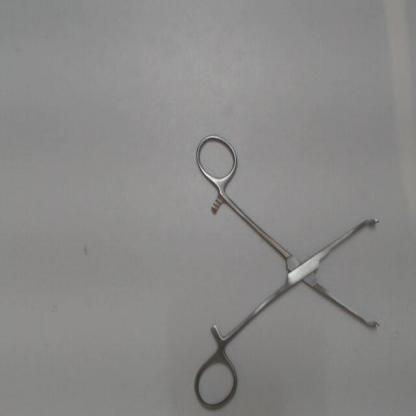Allis Tissue Forceps: (189, 128, 386, 414)
